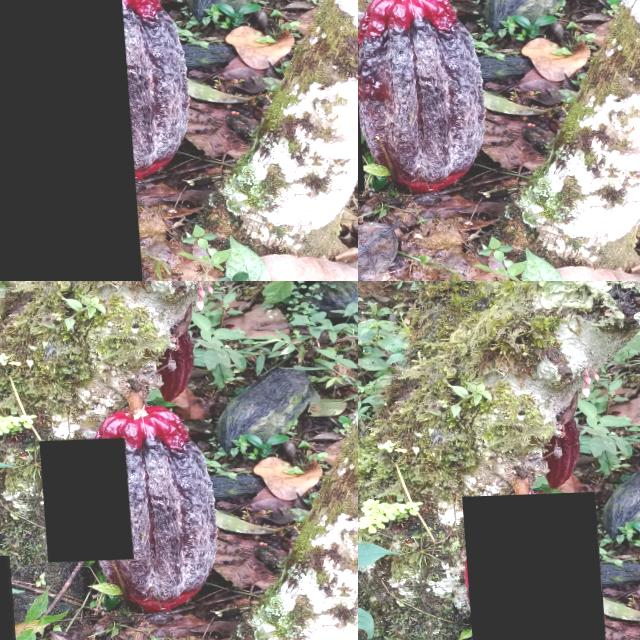Fitoftora: (0, 0, 140, 281), (458, 494, 603, 640)
Sana: (35, 440, 128, 564)
